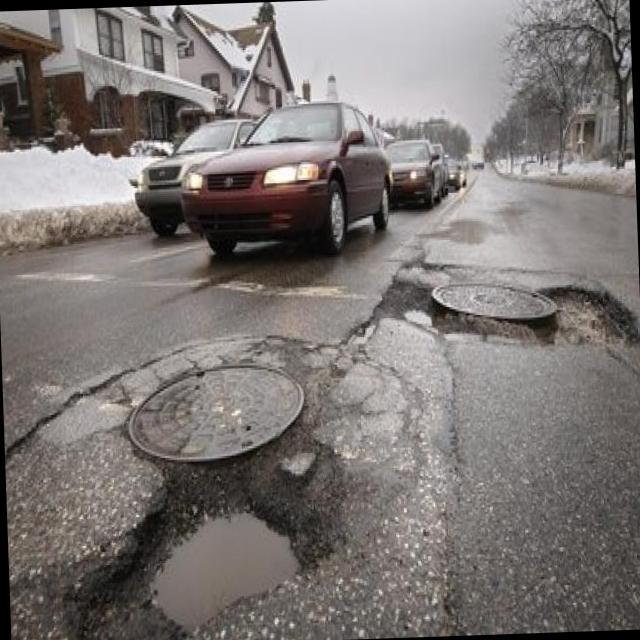Pothole: (150, 512, 298, 629)
